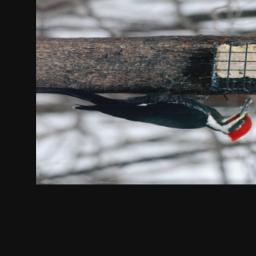Woodpecker: (43, 72, 256, 141)
